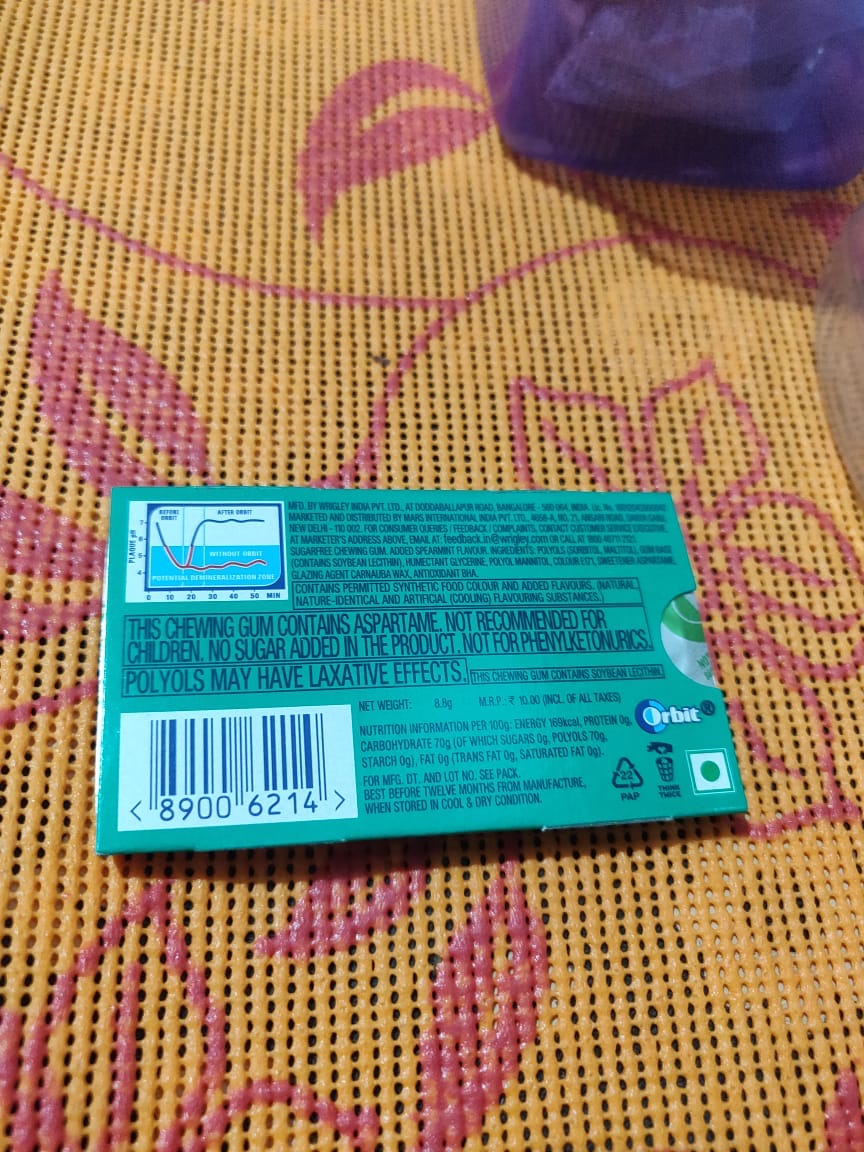barcode: (128, 714, 348, 824)
